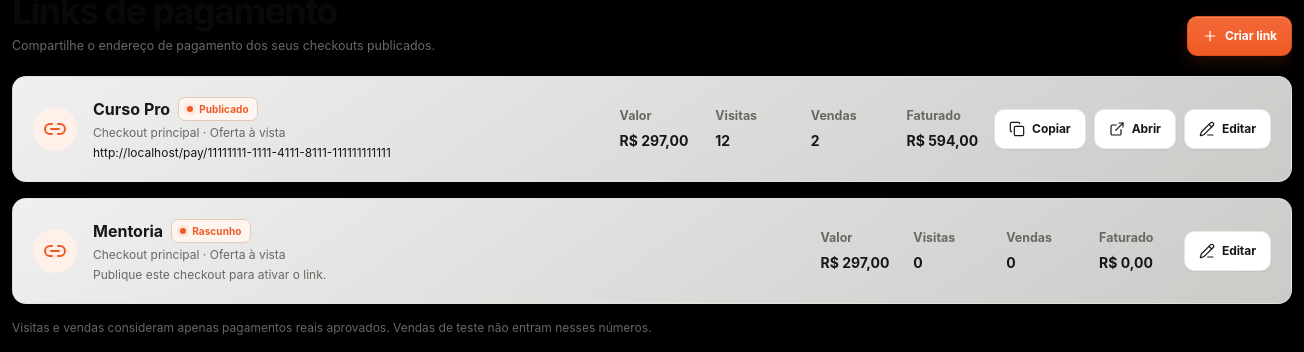
it: links de pagamento reais › lista checkouts publicados com métricas reais e copia o endereço /pay
The width and height of the screenshot is (1304, 352).
Expected: the text "Curso Pro" is shown, [93, 97, 170, 121]
Expected: the text "R$ 594,00" is shown, [906, 132, 978, 149]
Click the button with aria-label "Copiar link de Curso Pro". click: (1040, 129)
box: [994, 109, 1086, 149]
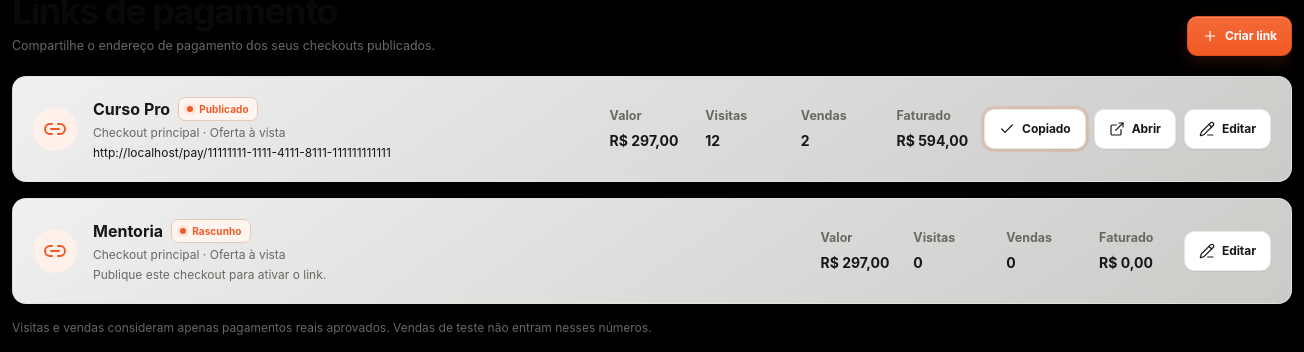
Expected: the button "Copiado" is shown, [984, 109, 1086, 149]
